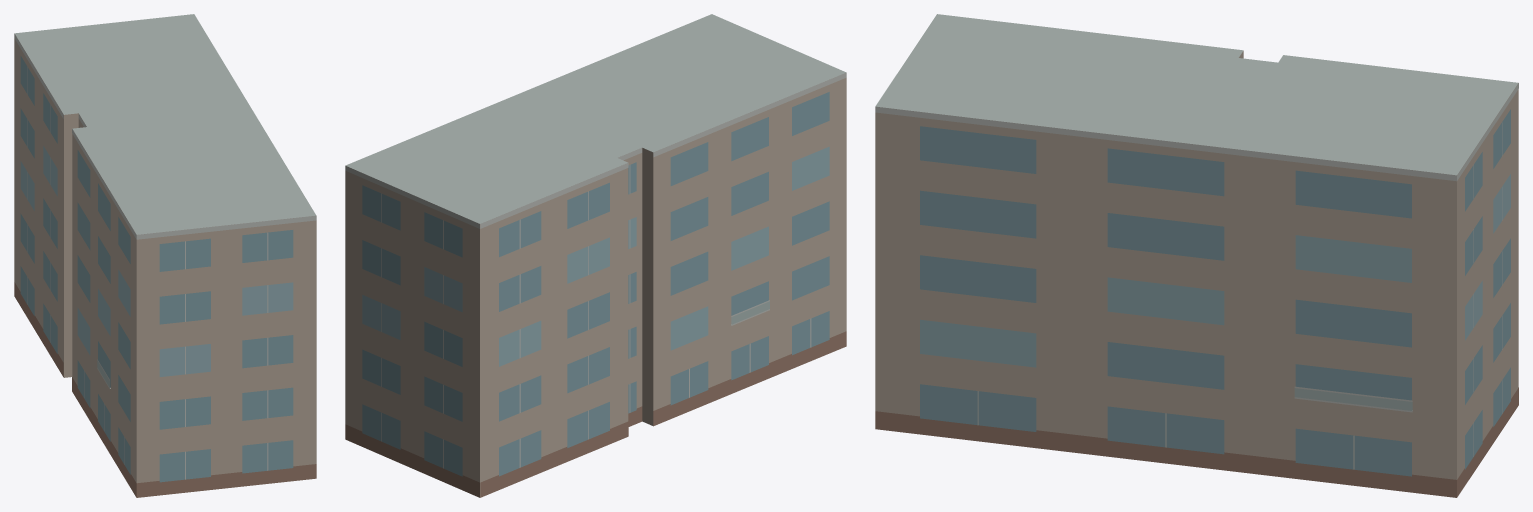
The model's file is survey-upis-32953624.glb.
The picture shows the model from 3 angles, left to right: view 1: azimuth 30°, elevation 25°; view 2: azimuth 150°, elevation 25°; view 3: azimuth 270°, elevation 25°; orthographic projection. The views are drawn at different scales.
Visible parts, largest first — view 1: survey-upis-32953624.tmp; view 2: survey-upis-32953624.tmp; view 3: survey-upis-32953624.tmp.
Boxes of the visible parts, left/top/right/bottom form: survey-upis-32953624.tmp: left=14, top=14, right=316, bottom=497; survey-upis-32953624.tmp: left=345, top=14, right=846, bottom=497; survey-upis-32953624.tmp: left=875, top=14, right=1518, bottom=497.
Bounding box in the file's own units: 14.28 × 13.3 × 24.06.
